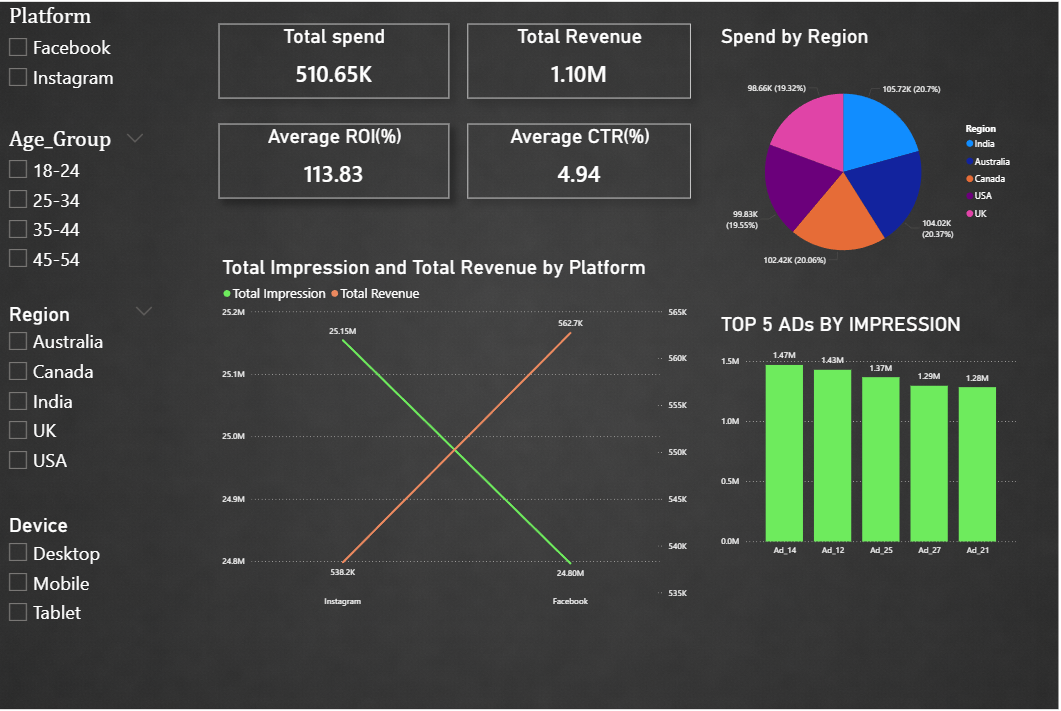

Layout of this report page (visuals, bound fields, positions):
{"tool":"powerbi","page":{"name":"Page 1","canvas":[1920,1080],"ordinal":0},"visuals":[{"type":"slicer","fields":{"Values":["Social_Media_Ads_Data.Platform"]},"box":[195,23.3,233.3,176.7],"z":0},{"type":"slicer","fields":{"Values":["Social_Media_Ads_Data.Age_Group"]},"box":[195,200,220,253.3],"z":1},{"type":"slicer","fields":{"Values":["Social_Media_Ads_Data.Region"]},"box":[195,453.3,233.3,270],"z":2},{"type":"slicer","fields":{"Values":["Social_Media_Ads_Data.Device"]},"box":[195,760,233.3,295],"z":3},{"type":"cardVisual","title":"Total spend","fields":{"Data":["Social_Media_Ads_Data.Total Spend"]},"box":[511.7,56.7,333.3,108.3],"z":4},{"type":"cardVisual","title":"Total Revenue","fields":{"Data":["Social_Media_Ads_Data.Total Revenue"]},"box":[871.7,56.7,323.3,108.3],"z":5},{"type":"cardVisual","title":"Average ROI(%)","fields":{"Data":["Social_Media_Ads_Data.Average ROI"]},"box":[511.7,200,333.3,108.3],"z":6},{"type":"cardVisual","title":"Average CTR(%)","fields":{"Data":["Social_Media_Ads_Data.Average CTR(%)"]},"box":[871.7,200,323.3,108.3],"z":7},{"type":"pieChart","title":"Spend by Region","fields":{"Category":["Social_Media_Ads_Data.Region"],"Y":["Sum(Social_Media_Ads_Data.Spend)"]},"box":[1235,56.7,438.3,396.7],"z":8},{"type":"clusteredColumnChart","title":"TOP 5 ADs BY IMPRESSION","fields":{"Category":["Social_Media_Ads_Data.Ad_Name"],"Y":["Social_Media_Ads_Data.Total Impression"]},"box":[1235,475,438.3,361.7],"z":9},{"type":"lineChart","fields":{"Category":["Social_Media_Ads_Data.Platform"],"Y":["Social_Media_Ads_Data.Total Impression"],"Y2":["Social_Media_Ads_Data.Total Revenue"]},"box":[511.7,390,683.3,518.3],"z":10}]}

Visuals, with their boxes on the page's 1920x1080 design canvas (x1, y1, x2, y2). These are canvas units, not pixel positions in the 1061x711 screenshot, which may show the page scaled, cropped or inside an application window:
slicer - Social_Media_Ads_Data.Platform: x1=195, y1=23, x2=428, y2=200
slicer - Social_Media_Ads_Data.Age_Group: x1=195, y1=200, x2=415, y2=453
slicer - Social_Media_Ads_Data.Region: x1=195, y1=453, x2=428, y2=723
slicer - Social_Media_Ads_Data.Device: x1=195, y1=760, x2=428, y2=1055
"Total spend" cardVisual: x1=512, y1=57, x2=845, y2=165
"Total Revenue" cardVisual: x1=872, y1=57, x2=1195, y2=165
"Average ROI(%)" cardVisual: x1=512, y1=200, x2=845, y2=308
"Average CTR(%)" cardVisual: x1=872, y1=200, x2=1195, y2=308
"Spend by Region" pieChart: x1=1235, y1=57, x2=1673, y2=453
"TOP 5 ADs BY IMPRESSION" clusteredColumnChart: x1=1235, y1=475, x2=1673, y2=837
lineChart - Social_Media_Ads_Data.Platform x Social_Media_Ads_Data.Total Impression: x1=512, y1=390, x2=1195, y2=908
